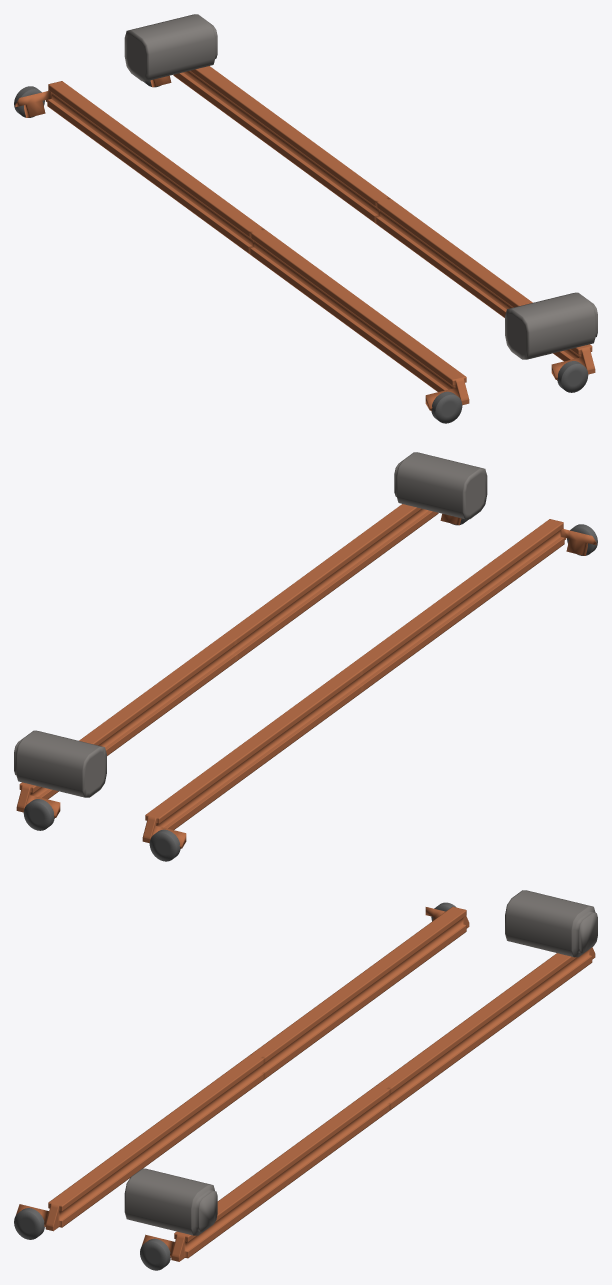
The model's file is newkentop.fbx.
The picture shows the model from 3 angles, top to bottom: view 1: azimuth 30°, elevation 25°; view 2: azimuth 150°, elevation 25°; view 3: azimuth 330°, elevation 25°; orthographic projection.
Parts seen in each view (by area): view 1: Cube.189; view 2: Cube.189; view 3: Cube.189.
Part boxes in pixels (x1,y1,x2,y2): Cube.189: (14, 14, 597, 423); Cube.189: (14, 452, 597, 861); Cube.189: (14, 890, 597, 1270).
Size of the model in its own units: 4458 by 1778 by 18485.
